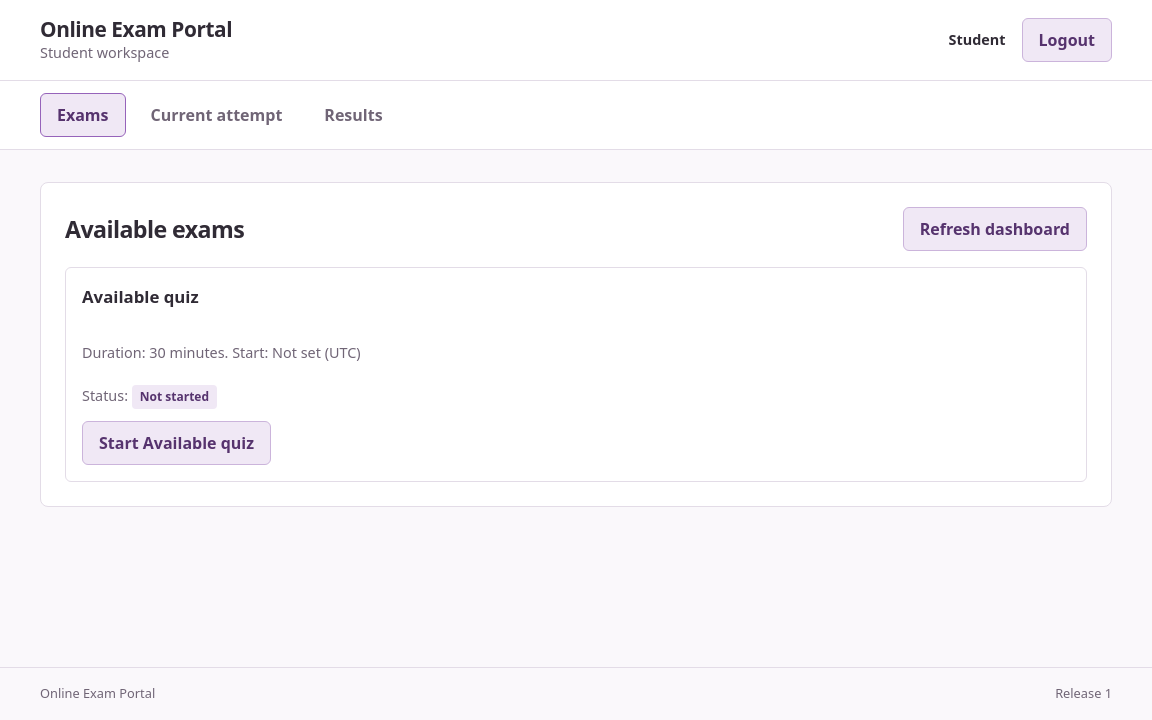
it: Supporting role boundaries › Student sees eligibility list, starts/resumes and receives the persisted deadline
Click the button "Start Available quiz" at (176, 443), box [82, 421, 271, 465]
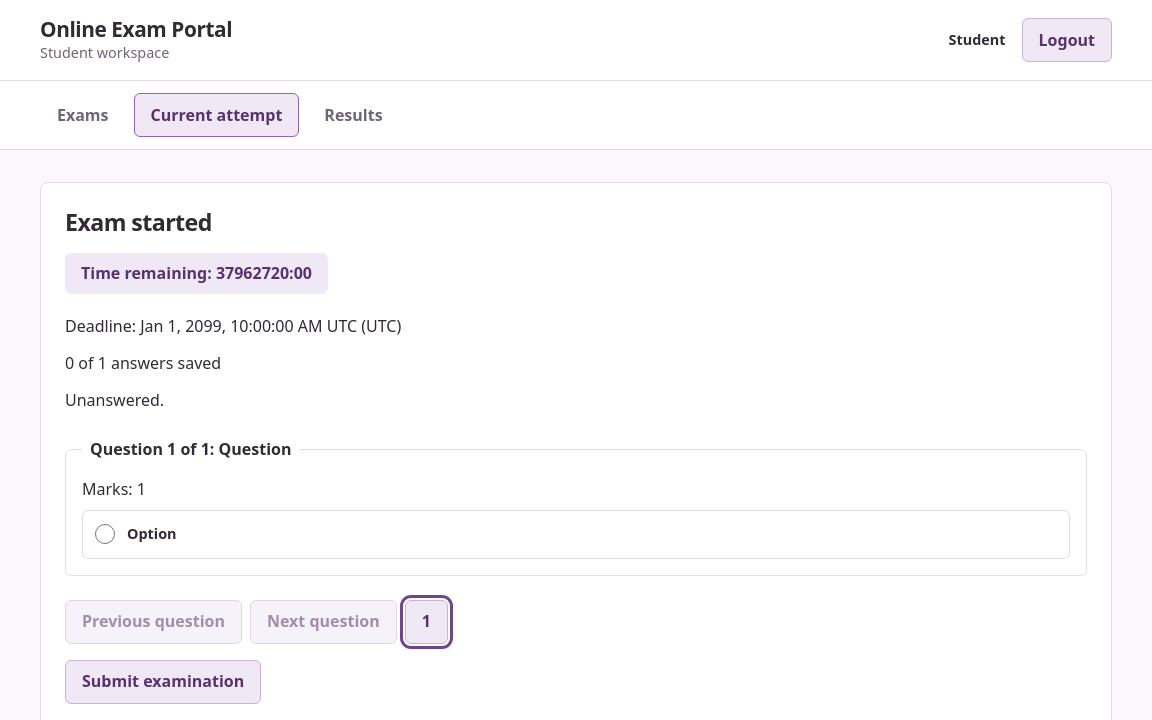
Expected: the heading "Exam started" is shown, [65, 206, 212, 238]
Expected: the text "Question 1 of 1: Question" is shown, [82, 437, 299, 462]
